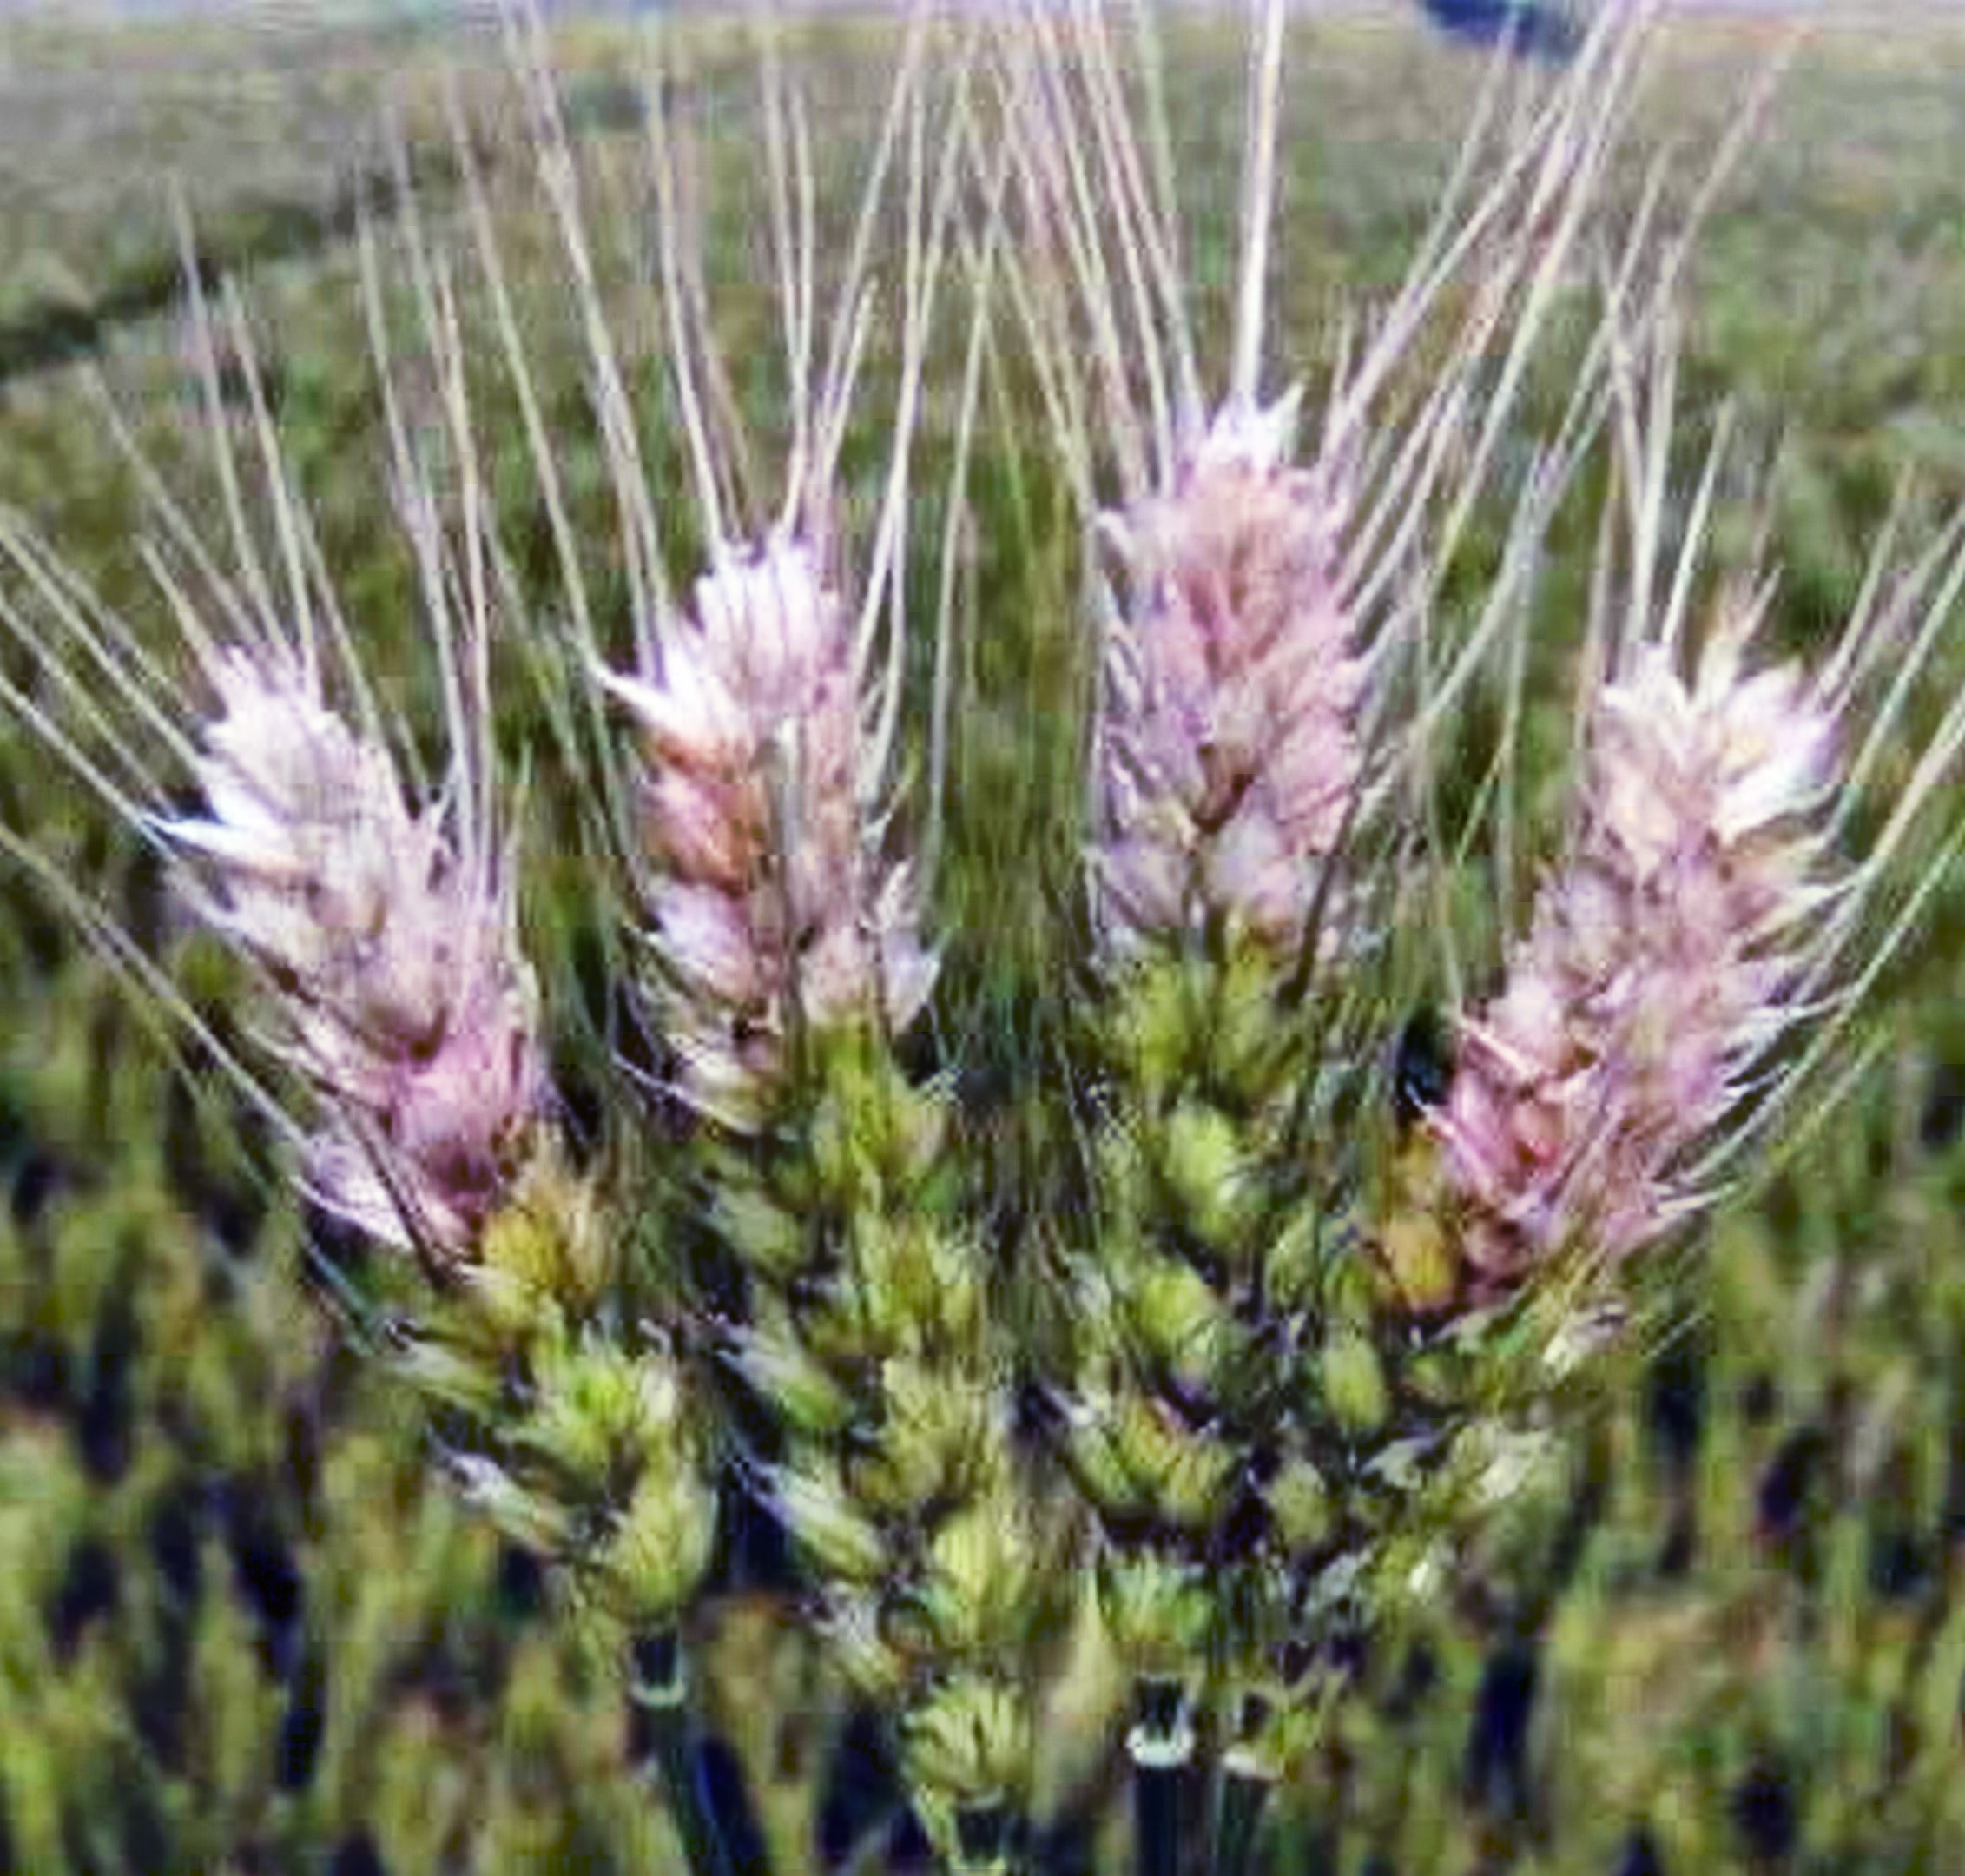Wheat scab: (1081, 423, 1800, 1830), (533, 525, 1051, 1762)
